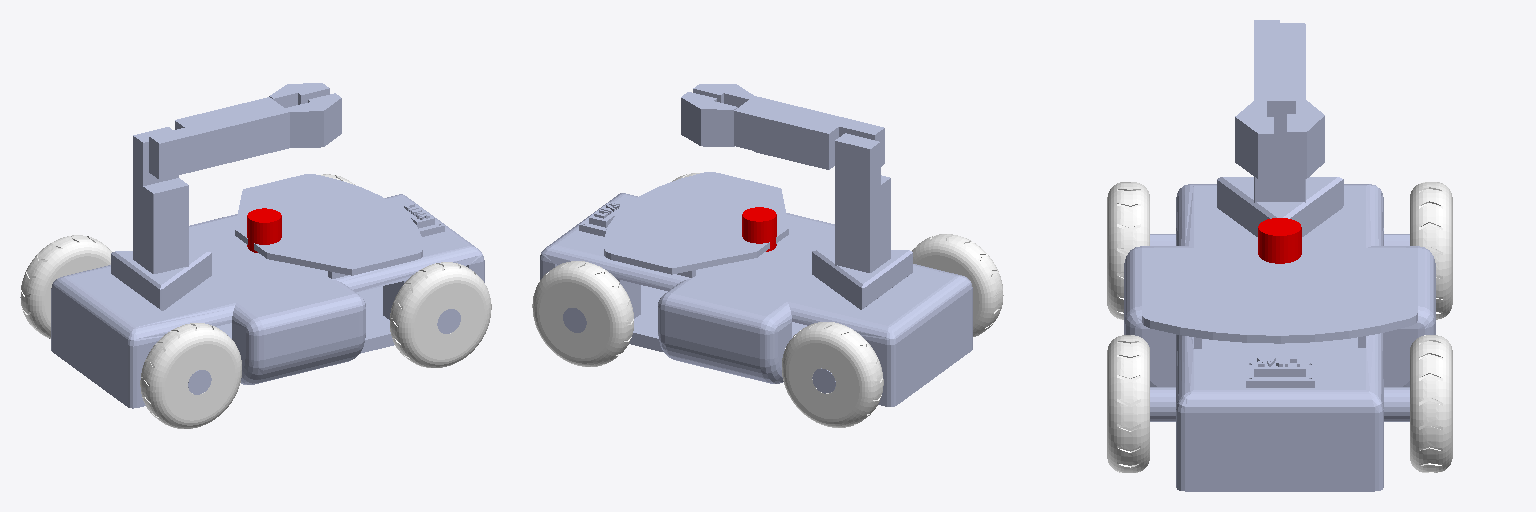
The robot description file, URDF, robot "six":
<?xml version="1.0" encoding="utf-8"?>
<!-- This URDF was automatically created by SolidWorks to URDF Exporter! Originally created by [author] ([email redacted]) 
     Commit Version: 1.6.0-4-g7f85cfe  Build Version: 1.6.7995.38578
     For more information, please see http://wiki.ros.org/sw_urdf_exporter -->
<robot
  name="six">
  <link
    name="base_link">
    <inertial>
      <origin
        xyz="-0.0119090912083531 8.4984409054404E-05 0.0423942810406298"
        rpy="0 0 0" />
      <mass
        value="105.564993059326" />
      <inertia
        ixx="4.20513009209965"
        ixy="0.0134358395892136"
        ixz="-0.194865924125848"
        iyy="11.0601963023685"
        iyz="-0.00511185176563676"
        izz="13.454262276326" />
    </inertial>
    <visual>
      <origin
        xyz="0 0 0"
        rpy="0 0 0" />
      <geometry>
        <mesh
          filename="package://six/meshes/base_link.STL" />
      </geometry>
      <material
        name="l">
        <color
          rgba="0.792156862745098 0.819607843137255 0.933333333333333 1" />
      </material>
    </visual>
    <collision>
      <origin
        xyz="0 0 0"
        rpy="0 0 0" />
      <geometry>
        <mesh
          filename="package://six/meshes/base_link.STL" />
      </geometry>
    </collision>
  </link>
  <link
    name="link_rb">
    <inertial>
      <origin
        xyz="-1.52166612643612E-11 0.0499994312484847 -2.53794728288792E-11"
        rpy="0 0 0" />
      <mass
        value="6.86394677263579" />
      <inertia
        ixx="0.0486340780001551"
        ixy="8.94936539307187E-12"
        ixz="8.63565720978465E-12"
        iyy="0.0869593911567191"
        iyz="2.8145540103692E-11"
        izz="0.0486340780038043" />
    </inertial>
    <visual>
      <origin
        xyz="0 0 0"
        rpy="0 0 0" />
      <geometry>
        <mesh
          filename="package://six/meshes/link_rb.STL" />
      </geometry>
      <material
        name="">
        <color
          rgba="1 1 1 1" />
      </material>
    </visual>
    <collision>
      <origin
        xyz="0 0 0"
        rpy="0 0 0" />
      <geometry>
        <mesh
          filename="package://six/meshes/link_rb.STL" />
      </geometry>
    </collision>
  </link>
  <joint
    name="joint_rb"
    type="continuous">
    <origin
      xyz="-0.4486 -0.39992 -0.030718"
      rpy="0 0 0" />
    <parent
      link="base_link" />
    <child
      link="link_rb" />
    <axis
      xyz="0 1 0" />
  </joint>
  <link
    name="link_lb">
    <inertial>
      <origin
        xyz="1.25177090914974E-11 -0.0499994312484748 2.54926878218154E-11"
        rpy="0 0 0" />
      <mass
        value="6.86394677267223" />
      <inertia
        ixx="0.0486340779941603"
        ixy="1.00471706054397E-11"
        ixz="4.20028396768673E-12"
        iyy="0.0869593911579852"
        iyz="2.33574040253059E-11"
        izz="0.0486340780096409" />
    </inertial>
    <visual>
      <origin
        xyz="0 0 0"
        rpy="0 0 0" />
      <geometry>
        <mesh
          filename="package://six/meshes/link_lb.STL" />
      </geometry>
      <material
        name="">
        <color
          rgba="1 1 1 1" />
      </material>
    </visual>
    <collision>
      <origin
        xyz="0 0 0"
        rpy="0 0 0" />
      <geometry>
        <mesh
          filename="package://six/meshes/link_lb.STL" />
      </geometry>
    </collision>
  </link>
  <joint
    name="joint_lb"
    type="continuous">
    <origin
      xyz="-0.4486 0.40008 -0.030718"
      rpy="0 0 0" />
    <parent
      link="base_link" />
    <child
      link="link_lb" />
    <axis
      xyz="0 1 0" />
  </joint>
  <link
    name="link_rf">
    <inertial>
      <origin
        xyz="2.88922219482401E-11 0.0499994312485906 3.73488739935368E-12"
        rpy="0 0 0" />
      <mass
        value="6.86394677264213" />
      <inertia
        ixx="0.0486340780109953"
        ixy="-2.88614034703621E-11"
        ixz="-1.18281906759627E-12"
        iyy="0.0869593911566334"
        iyz="-7.25300719216216E-12"
        izz="0.0486340779925056" />
    </inertial>
    <visual>
      <origin
        xyz="0 0 0"
        rpy="0 0 0" />
      <geometry>
        <mesh
          filename="package://six/meshes/link_rf.STL" />
      </geometry>
      <material
        name="">
        <color
          rgba="1 1 1 1" />
      </material>
    </visual>
    <collision>
      <origin
        xyz="0 0 0"
        rpy="0 0 0" />
      <geometry>
        <mesh
          filename="package://six/meshes/link_rf.STL" />
      </geometry>
    </collision>
  </link>
  <joint
    name="joint_rf"
    type="continuous">
    <origin
      xyz="0.3914 -0.39992 -0.030718"
      rpy="0 0 0" />
    <parent
      link="base_link" />
    <child
      link="link_rf" />
    <axis
      xyz="0 1 0" />
  </joint>
  <link
    name="link_lf">
    <inertial>
      <origin
        xyz="1.1845247005482E-11 -0.0499994312484017 2.59869417651437E-11"
        rpy="0 0 0" />
      <mass
        value="6.86394677267259" />
      <inertia
        ixx="0.0486340779946045"
        ixy="1.01004933890448E-11"
        ixz="4.01302156450457E-12"
        iyy="0.0869593911582054"
        iyz="2.21907287031965E-11"
        izz="0.0486340780094871" />
    </inertial>
    <visual>
      <origin
        xyz="0 0 0"
        rpy="0 0 0" />
      <geometry>
        <mesh
          filename="package://six/meshes/link_lf.STL" />
      </geometry>
      <material
        name="">
        <color
          rgba="1 1 1 1" />
      </material>
    </visual>
    <collision>
      <origin
        xyz="0 0 0"
        rpy="0 0 0" />
      <geometry>
        <mesh
          filename="package://six/meshes/link_lf.STL" />
      </geometry>
    </collision>
  </link>
  <joint
    name="joint_lf"
    type="continuous">
    <origin
      xyz="0.3914 0.40008 -0.030718"
      rpy="0 0 0" />
    <parent
      link="base_link" />
    <child
      link="link_lf" />
    <axis
      xyz="0 1 0" />
  </joint>
    <!-- Link cho LIDAR -->
  <link name="lidar_link">
    <visual>
      <geometry>
        <cylinder radius="0.05" length="0.1"/>
      </geometry>
      <material>
        <color rgba="1 0 0 1"/>
      </material>
    </visual>
    <collision>
      <geometry>
        <cylinder radius="0.05" length="0.1"/>
      </geometry>
    </collision>
    <inertial>
      <mass value="0.1"/>
      <inertia ixx="0.001" ixy="0" ixz="0" iyy="0.001" iyz="0" izz="0.001"/>
    </inertial>
  </link>
  <joint name="lidar_joint" type="fixed">
    <parent link="base_link"/>
    <child link="lidar_link"/>
    <origin xyz="0 0 0.19" rpy="0 0 0"/>
  </joint>
  <gazebo reference="lidar_link">
    <material>Gazebo/Red</material>
  </gazebo>

  <!-- Cảm biến LIDAR -->
  <gazebo reference="lidar_link">
    <sensor type="ray" name="lidar_sensor">
      <pose>0 0 0 0 0 0</pose>
      <visualize>true</visualize>
      <update_rate>40</update_rate>
      <ray>
        <scan>
          <horizontal>
            <samples>720</samples>
            <resolution>1</resolution>
            <min_angle>-3.14</min_angle>
            <max_angle>3.14</max_angle>
          </horizontal>
        </scan>
        <range>
          <min>0.8</min>
          <max>20.0</max>
          <resolution>0.01</resolution>
        </range>
        <noise>
          <type>gaussian</type>
          <mean>0.0</mean>
          <stddev>0.01</stddev>
        </noise>
      </ray>
      <plugin name="gazebo_ros_laser" filename="libgazebo_ros_laser.so">
        <topicName>/scan</topicName>
        <frameName>lidar_link</frameName>
      </plugin>
    </sensor>
  </gazebo>

  <!-- Plugin Joint State Publisher -->
  <gazebo>
    <plugin name="joint_state_publisher" filename="libgazebo_ros_joint_state_publisher.so">
      <robotNamespace>/</robotNamespace>
      <updateRate>100.0</updateRate>
      <jointName>joint_rf, joint_lf, joint_rb, joint_lb</jointName>
      <topicName>/joint_states</topicName>
    </plugin>
  </gazebo>


  <!-- Plugin Skid-Steer Drive -->
  <gazebo>
    <plugin name="skid_steer_drive_controller" filename="libgazebo_ros_skid_steer_drive.so">
      <updateRate>10.0</updateRate>
      <robotNamespace>/</robotNamespace>
      <leftFrontJoint>joint_lf</leftFrontJoint>
      <rightFrontJoint>joint_rf</rightFrontJoint>
      <leftRearJoint>joint_lb</leftRearJoint>
      <rightRearJoint>joint_rb</rightRearJoint>
      <wheelSeparation>2.0</wheelSeparation>
      <wheelDiameter>0.5</wheelDiameter>
      <robotBaseFrame>base_link</robotBaseFrame>
      <torque>200</torque>
      <topicName>cmd_vel</topicName>
      <gaussianNoise>0.0</gaussianNoise>
      <broadcastTF>false</broadcastTF>
    </plugin>
  </gazebo>

  <!-- Plugin Diff Drive (tuỳ chọn nếu muốn thay thế Skid-Steer) -->
  <gazebo>
    <plugin name="diff_drive_controller" filename="libgazebo_ros_diff_drive.so">
      <leftJoint>joint_lb</leftJoint>
      <rightJoint>joint_rb</rightJoint>
      <wheelSeparation>2.0</wheelSeparation>
      <wheelDiameter>0.5</wheelDiameter>
      <robotBaseFrame>base_link</robotBaseFrame>
      <odomTopic>/odom</odomTopic>
      <publishWheelTF>false</publishWheelTF>
      <publishOdomTF>true</publishOdomTF>
    </plugin>
  </gazebo>
  
  <gazebo>
  <plugin name="differential_drive_controller" filename="libgazebo_ros_diff_drive.so">
    <rosNamespace></rosNamespace>
    <commandTopic>cmd_vel</commandTopic>
    <odometryTopic>odom</odometryTopic>
    <odometryFrame>odom</odometryFrame>
    <robotBaseFrame>base_link</robotBaseFrame>
    <publishWheelTF>false</publishWheelTF>
    <publishWheelJointState>false</publishWheelJointState>
    <legacyMode>false</legacyMode>
    <wheelSeparation>0.4</wheelSeparation>
    <wheelDiameter>0.2</wheelDiameter>
    <broadcastTF>1</broadcastTF>
    <updateRate>10.0</updateRate>
  </plugin>
</gazebo>

</robot>

--- What the picture shows (computed from the rendered views, not written in the file) ---
Views: 3 orthographic renders of the robot side by side, from view 1: azimuth 30°, elevation 25°; view 2: azimuth 150°, elevation 25°; view 3: azimuth 270°, elevation 25°.
Robot: six — 6 links, 5 joints (4 continuous, 1 fixed); root link base_link; default pose: all joints at 0.
Visible links, largest first — view 1: base_link, link_rb, link_rf, link_lb, lidar_link; view 2: base_link, link_lb, link_lf, link_rb, lidar_link; view 3: base_link, link_rf, link_lf, link_rb, link_lb, lidar_link.
Link boxes in pixels (<box>): base_link: <box>51,83,484,408</box>; link_rb: <box>140,323,241,428</box>; link_rf: <box>390,262,491,367</box>; link_lb: <box>20,235,111,338</box>; lidar_link: <box>247,208,281,252</box>; base_link: <box>540,84,972,406</box>; link_lb: <box>782,322,883,427</box>; link_lf: <box>532,261,633,366</box>; link_rb: <box>912,234,1003,337</box>; lidar_link: <box>742,207,776,251</box>; base_link: <box>1124,20,1435,491</box>; link_rf: <box>1107,335,1149,472</box>; link_lf: <box>1410,335,1452,472</box>; link_rb: <box>1107,182,1149,319</box>; link_lb: <box>1410,182,1452,319</box>; lidar_link: <box>1258,218,1301,263</box>.
Bounding box of the posed robot: 1.22 × 0.8 × 0.78 m (x, y, z).
5 mesh visuals loaded from 5 distinct referenced files (5 binary STL).
